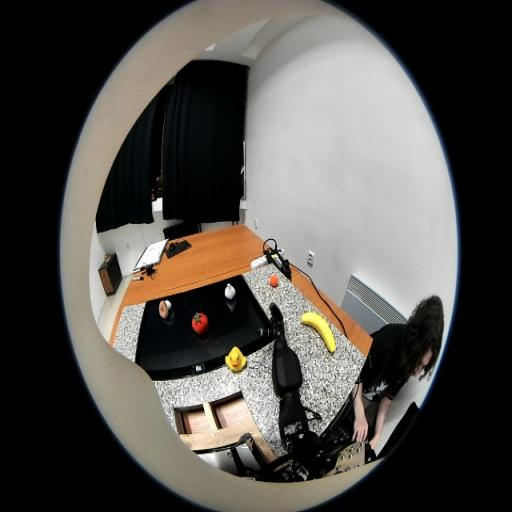Banana: (302, 312, 335, 354)
Duck: (225, 346, 246, 372)
Mushroom: (159, 300, 171, 319)
Onion: (224, 283, 236, 300)
Orange: (270, 276, 278, 286)
RightHand: (275, 321, 285, 338)
Tomato: (192, 312, 208, 334)
